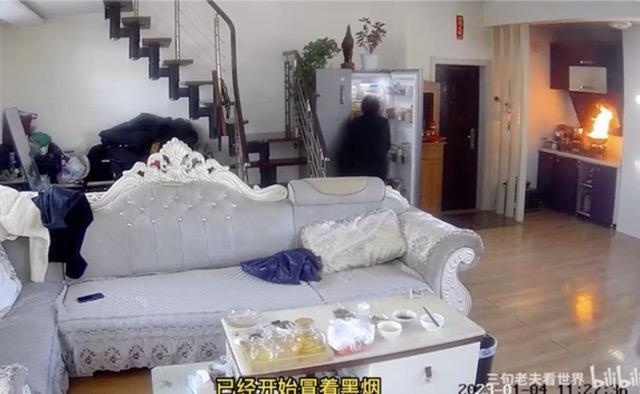fire: (576, 96, 628, 154)
